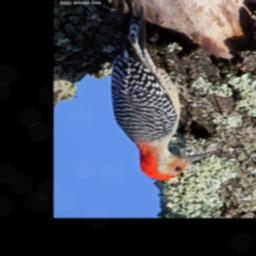Woodpecker: (108, 7, 211, 182)
